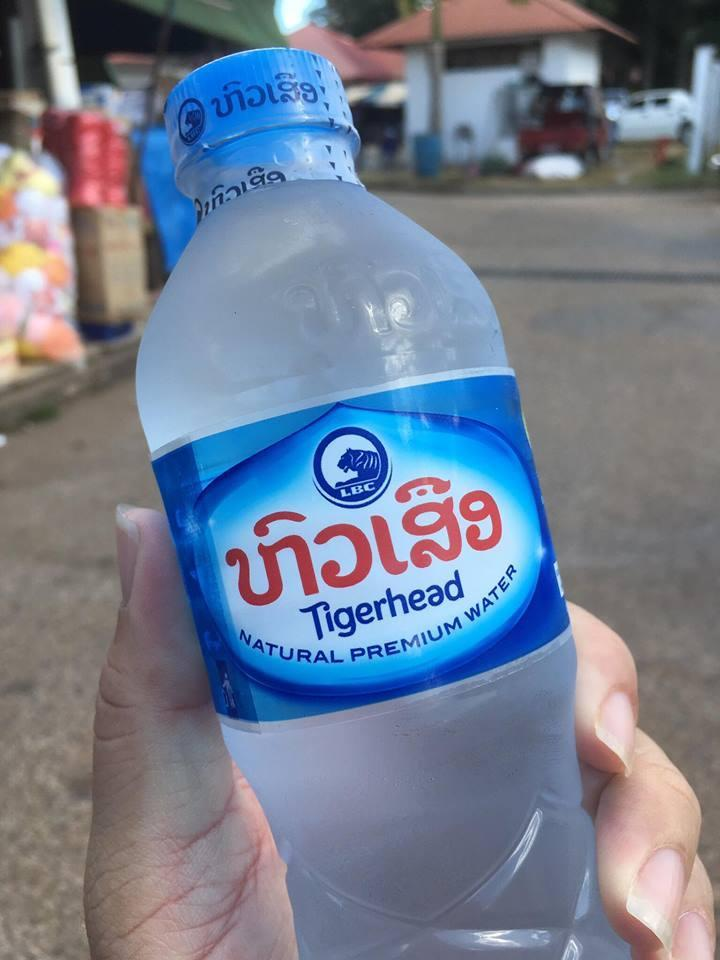bottle: (119, 32, 633, 960)
